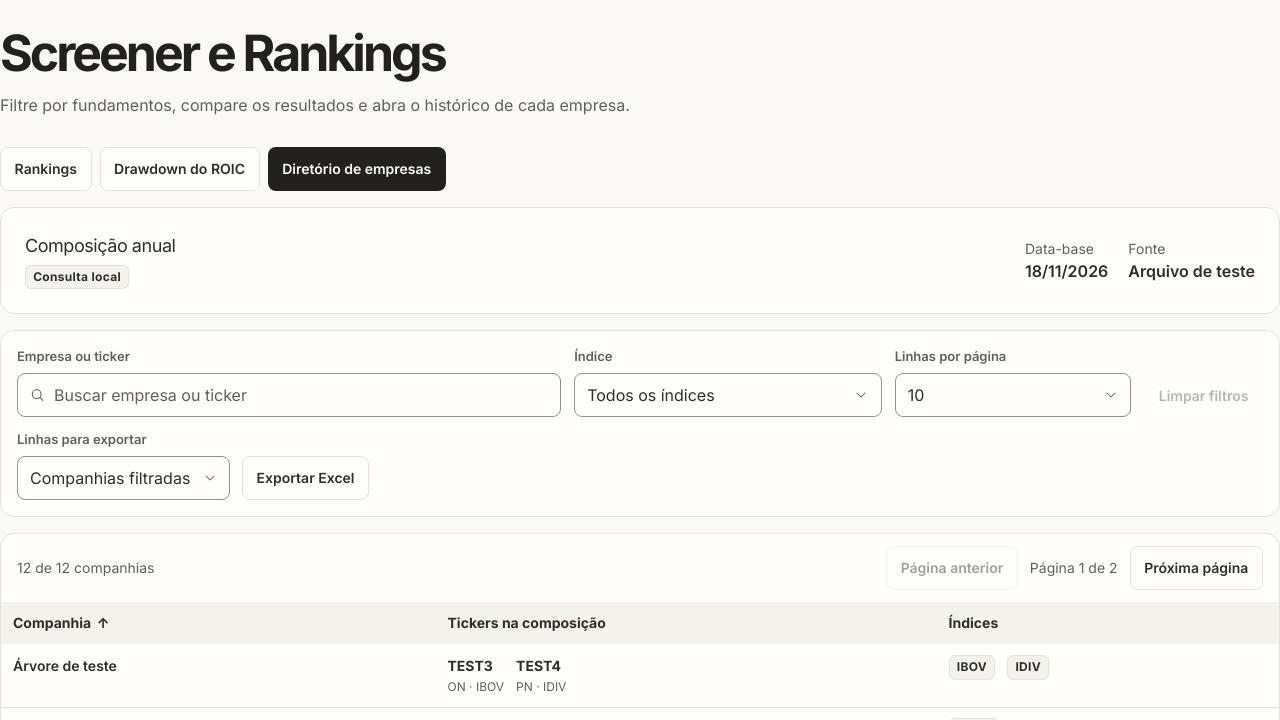
Composição anual dos índices › exibe data-base, pagina e mantém uma linha por companhia ao filtrar
Expected: the text "18/11/2026" is shown, x1=1025 y1=261 x2=1108 y2=281
Expected: the text "Consulta local" is shown, x1=25 y1=265 x2=129 y2=289
Click the button "Próxima página" at [1196, 568], box x1=1130 y1=546 x2=1263 y2=590
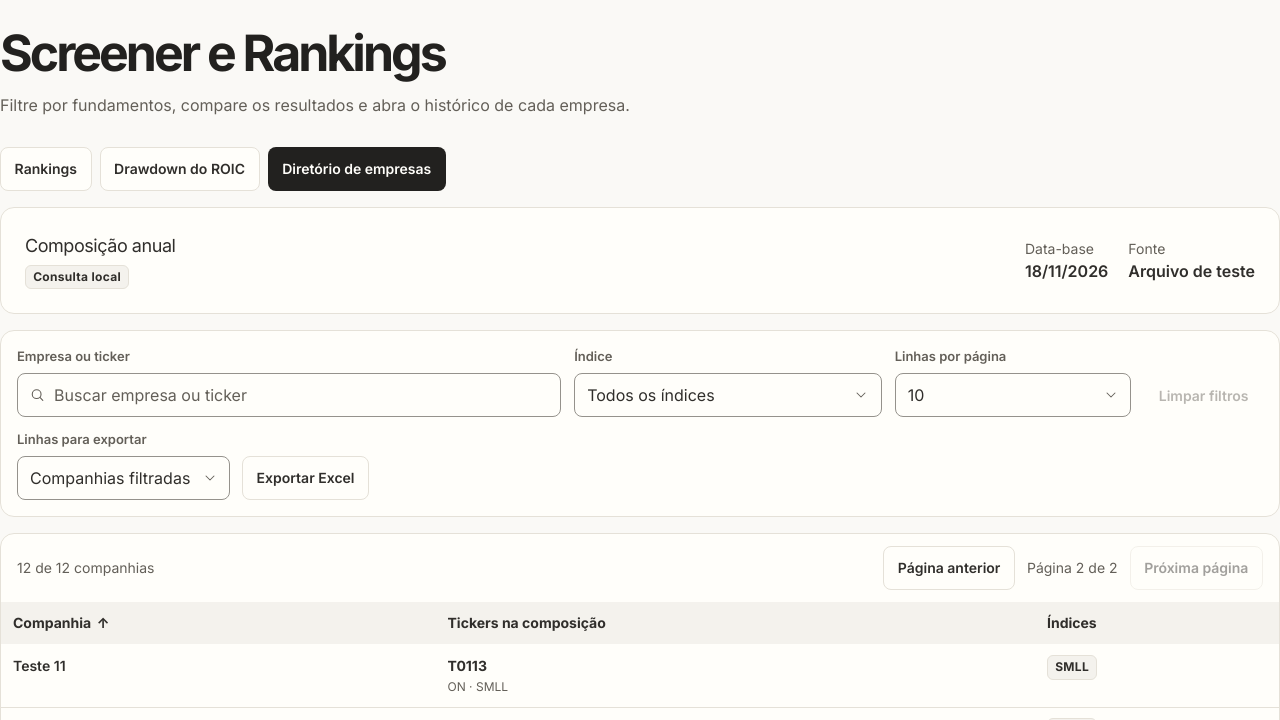
Select "IDIV" in the dropdown labelled "Índice" at [728, 395], box x1=574 y1=373 x2=882 y2=417
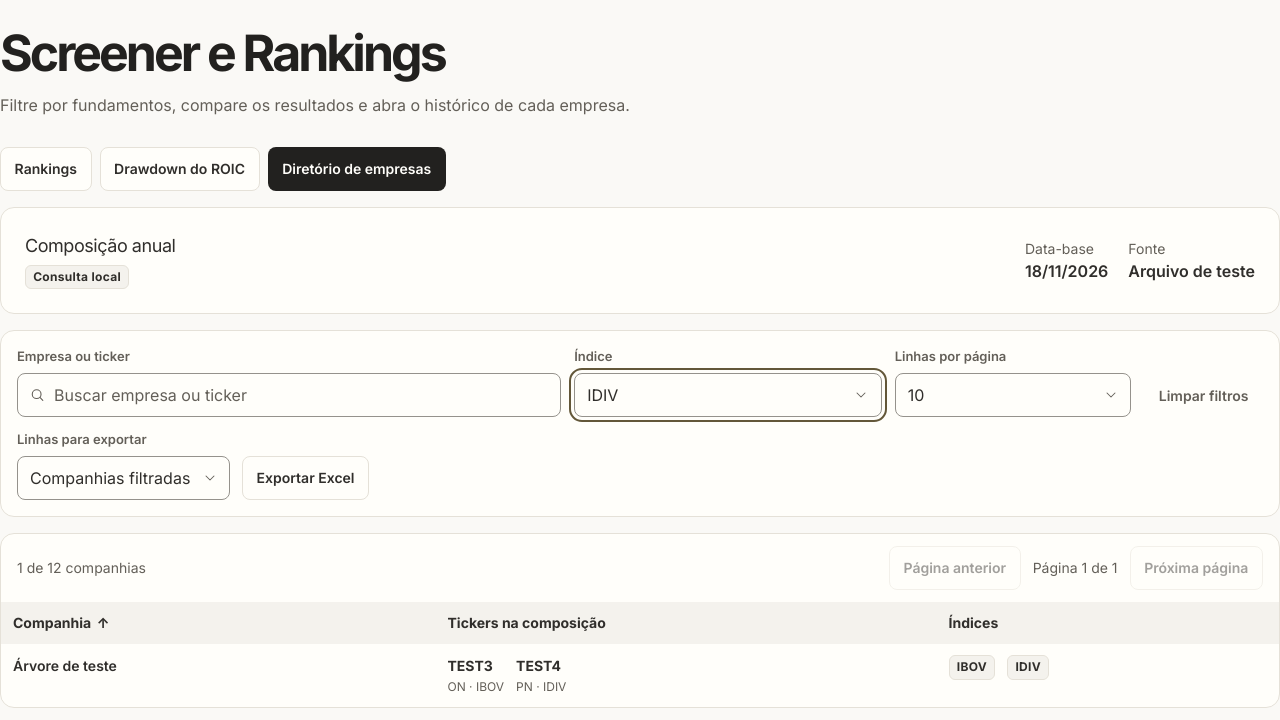
Result: the number of rows is 2 at x1=1 y1=602 x2=1279 y2=644; x1=1 y1=644 x2=1279 y2=707
Result: the text "TEST3" is shown at x1=448 y1=657 x2=493 y2=674
Result: the text "TEST4" is shown at x1=516 y1=655 x2=566 y2=676
Type "arvore" into the search field labelled "Empresa ou ticker" at [289, 395], box x1=17 y1=373 x2=561 y2=417
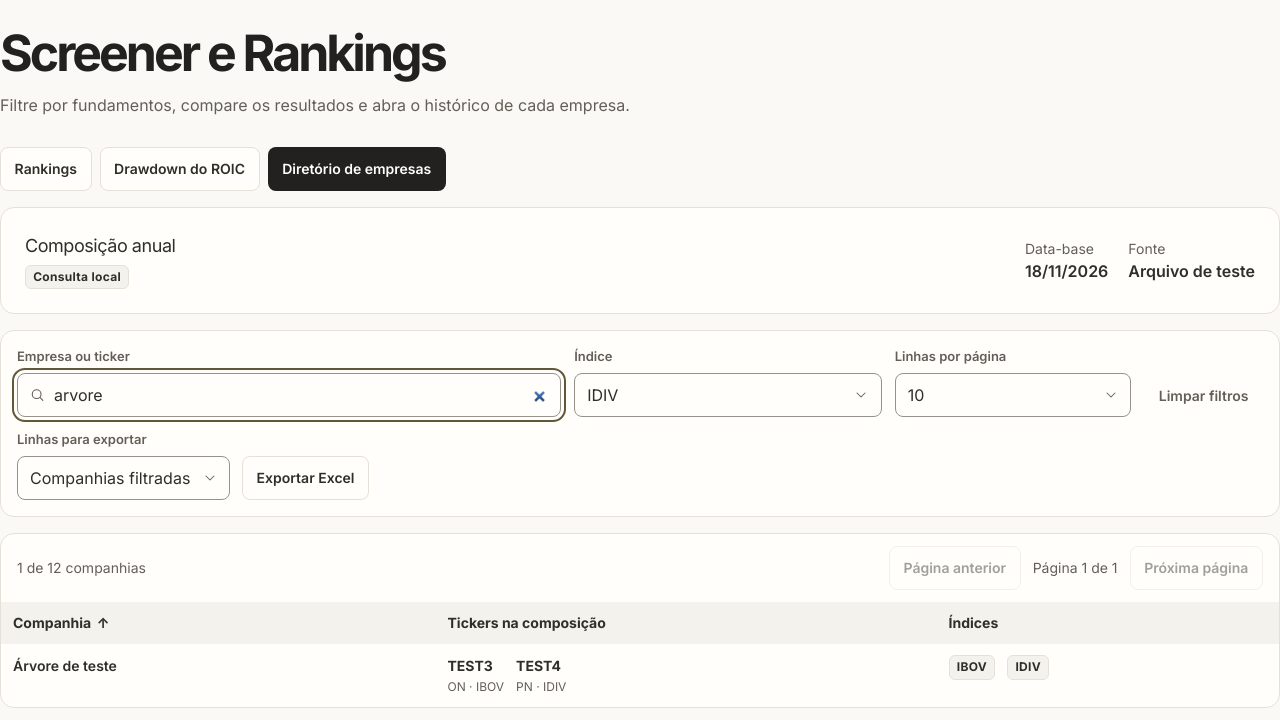
Result: the column heading "Árvore de teste" is shown at x1=1 y1=644 x2=436 y2=707
Replace the text in the search field labelled "Empresa ou ticker" with "faltante" at [289, 395], box x1=17 y1=373 x2=561 y2=417
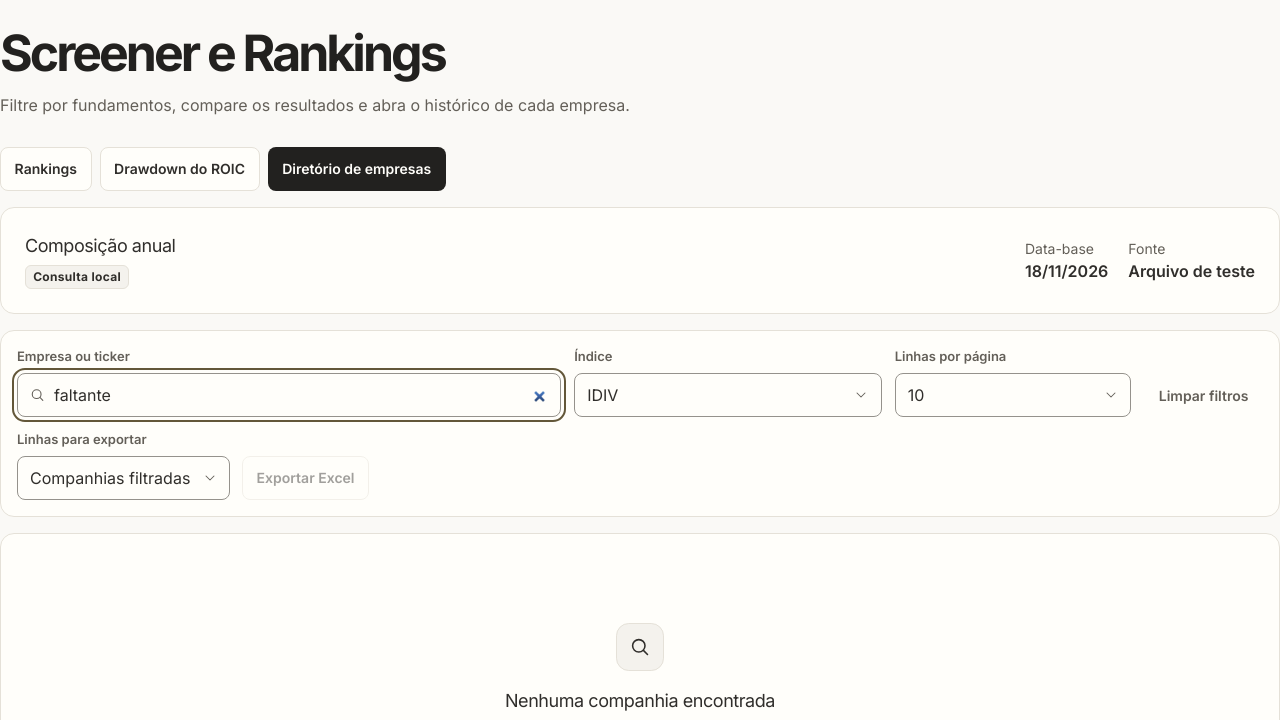
Result: the heading "Nenhuma companhia encontrada" is shown at x1=505 y1=687 x2=775 y2=714
